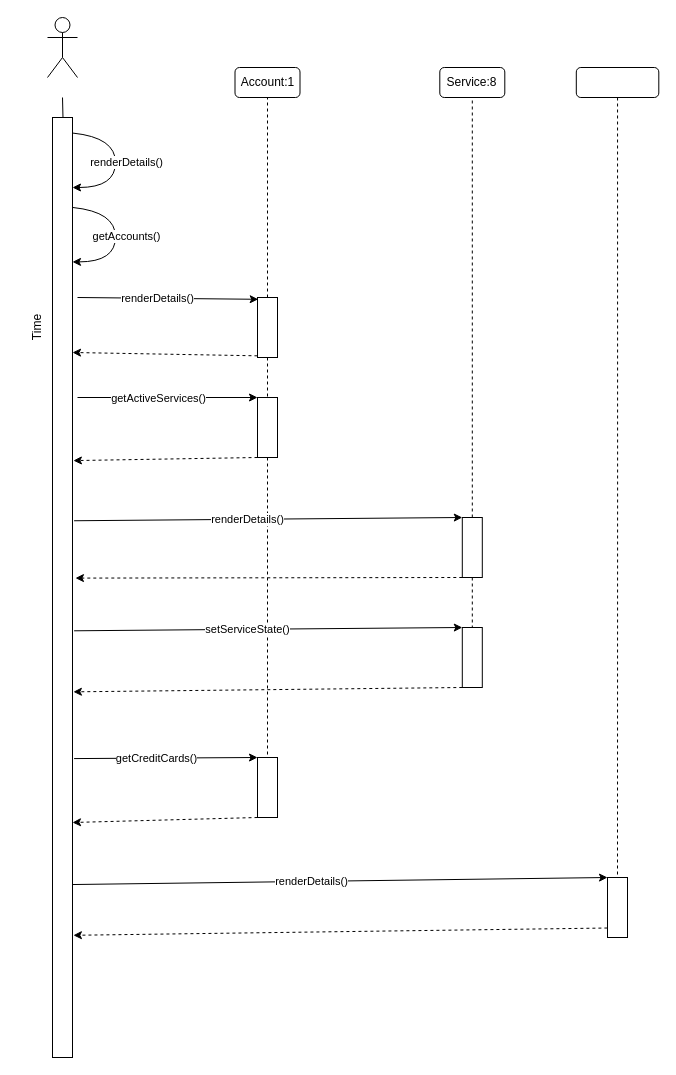
The diagram is 676 pixels wide and 1075 high, and some of its shapes have lost their labels. Here are the shapes that lost their labels. From the top down, the centre of each, then its label:
At point (62, 47): "User".
At point (617, 82): "CreditCard:5".
